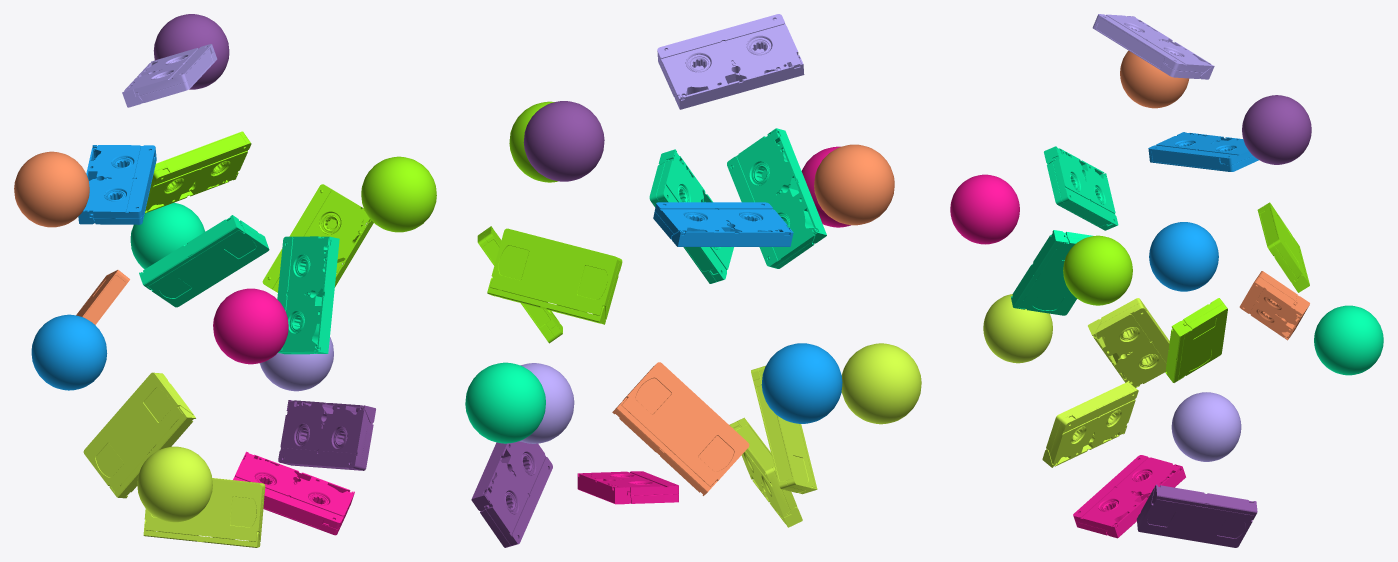
The model's file is Portfolio.glb.
3 renders of one model, left to right at view 1: azimuth 30°, elevation 25°; view 2: azimuth 150°, elevation 25°; view 3: azimuth 270°, elevation 25°, orthographic. The views are drawn at different scales.
Visible parts, largest first — view 1: I_MyVHSTitle_003__MyVHSDesc_003, I_MyVHSTitle_006__MyVHSDesc_006, I_MyVHSTitle_010__MyVHSDesc_010, I_MyVHSTitle_001__MyVHSDesc_001, I_MyVHSTitle_007__MyVHSDesc_007, I_MyVHSTitle_009__MyVHSDesc_009, I_MyVHSTitle_002__MyVHSDesc_002, Sphere, Sphere.004, Sphere.007, Sphere.003, Sphere.001 (+7 smaller); view 2: I_MyVHSTitle_008__MyVHSDesc_008, I_MyVHSTitle_004__MyVHSDesc_004, I_MyVHSTitle_011__MyVHSDesc_011, I_MyVHSTitle_010__MyVHSDesc_010, I_MyVHSTitle_007__MyVHSDesc_007, I_MyVHSTitle_001__MyVHSDesc_001, Sphere.002, Sphere.004, Sphere.001, Sphere.006, Sphere, I_MyVHSTitle_006__MyVHSDesc_006 (+7 smaller); view 3: I_MyVHSTitle_001__MyVHSDesc_001, I_MyVHSTitle_003__MyVHSDesc_003, I_MyVHSTitle_002__MyVHSDesc_002, I_MyVHSTitle_009__MyVHSDesc_009, Sphere.005, Sphere.006, Sphere.003, Sphere.007, Sphere.002, Sphere.001, I_MyVHSTitle_010__MyVHSDesc_010, I_MyVHSTitle_008__MyVHSDesc_008 (+7 smaller).
Boxes of the visible parts, x1,y1,x2,y2 form: I_MyVHSTitle_003__MyVHSDesc_003: (83,372,195,498); I_MyVHSTitle_006__MyVHSDesc_006: (277,236,339,354); I_MyVHSTitle_010__MyVHSDesc_010: (139,215,269,307); I_MyVHSTitle_001__MyVHSDesc_001: (278,400,375,470); I_MyVHSTitle_007__MyVHSDesc_007: (78,145,156,224); I_MyVHSTitle_009__MyVHSDesc_009: (143,478,265,547); I_MyVHSTitle_002__MyVHSDesc_002: (233,451,354,535); Sphere: (137,446,212,522); Sphere.004: (14,151,89,227); Sphere.007: (213,288,288,364); Sphere.003: (361,156,436,232); Sphere.001: (31,314,107,390); I_MyVHSTitle_008__MyVHSDesc_008: (657,14,804,109); I_MyVHSTitle_004__MyVHSDesc_004: (612,362,749,495); I_MyVHSTitle_011__MyVHSDesc_011: (487,228,622,324); I_MyVHSTitle_010__MyVHSDesc_010: (727,128,826,268); I_MyVHSTitle_007__MyVHSDesc_007: (653,202,793,246); I_MyVHSTitle_001__MyVHSDesc_001: (471,441,552,547); Sphere.002: (465,362,545,443); Sphere.004: (814,144,894,225); Sphere.001: (761,343,842,423); Sphere.006: (523,101,604,181); Sphere: (841,343,921,424); I_MyVHSTitle_006__MyVHSDesc_006: (649,149,733,283); I_MyVHSTitle_001__MyVHSDesc_001: (1136,484,1257,547); I_MyVHSTitle_003__MyVHSDesc_003: (1088,298,1169,387); I_MyVHSTitle_002__MyVHSDesc_002: (1073,455,1185,538); I_MyVHSTitle_009__MyVHSDesc_009: (1042,382,1138,467); Sphere.005: (1171,392,1241,461); Sphere.006: (1242,95,1311,164); Sphere.003: (1063,235,1132,305); Sphere.007: (950,174,1019,244); Sphere.002: (1314,305,1383,375); Sphere.001: (1149,222,1218,291); I_MyVHSTitle_010__MyVHSDesc_010: (1044,146,1118,230); I_MyVHSTitle_008__MyVHSDesc_008: (1092,14,1214,79).
Bounding box in the file's own units: 7.35 × 9.01 × 7.84.
